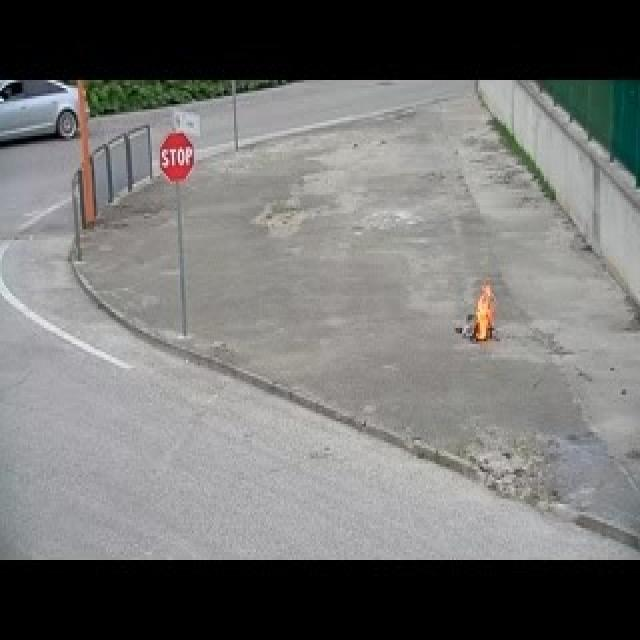fire: (477, 282, 498, 344)
